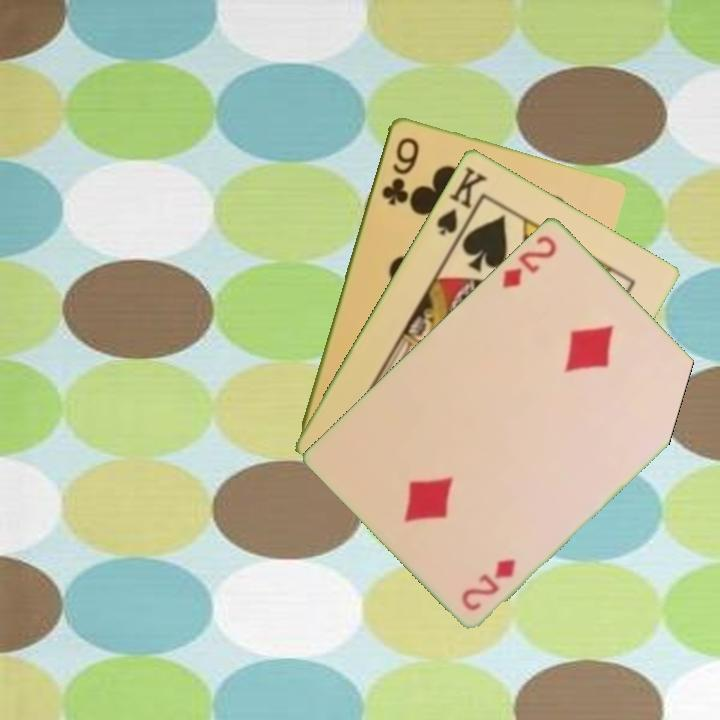2d: (498, 231, 560, 291), (458, 554, 519, 613)
9c: (378, 133, 422, 208)
Ks: (433, 162, 490, 244)
